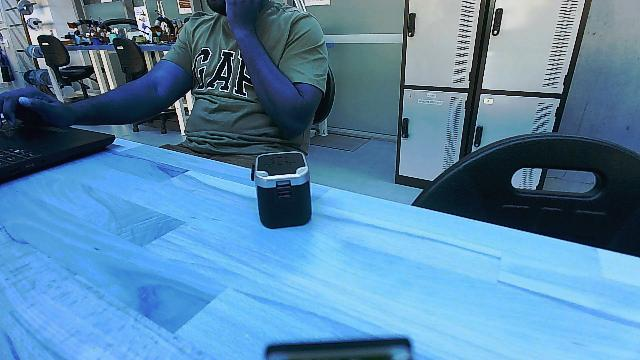adapter: (248, 150, 314, 236)
